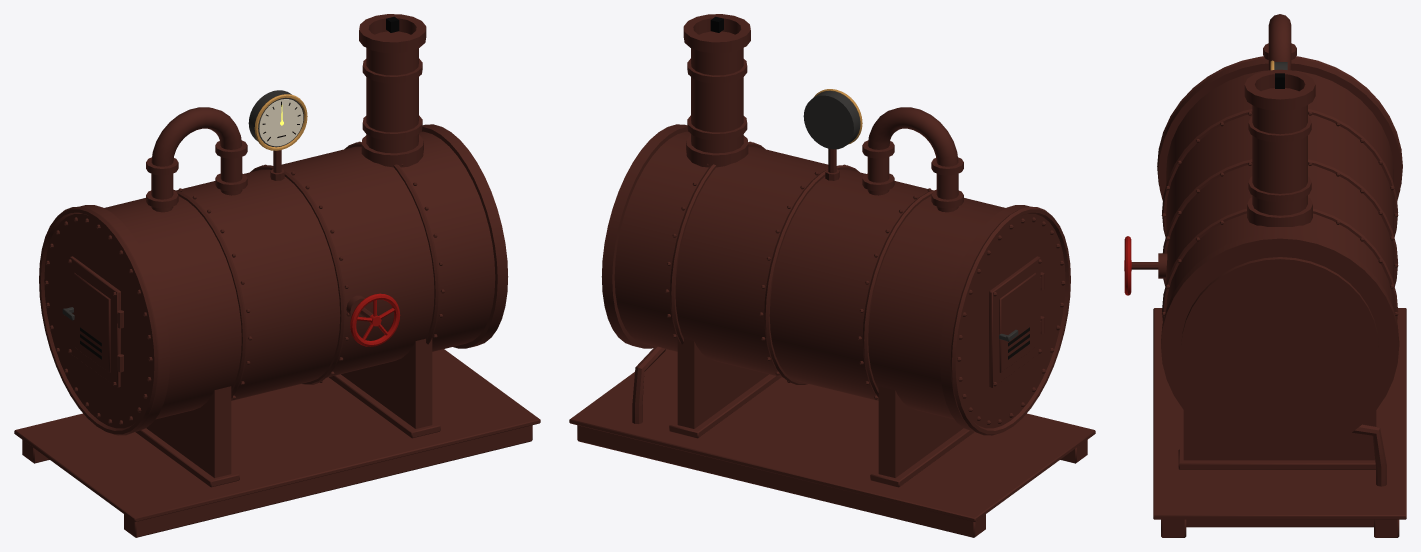
File: Boiler.fbx
The picture shows the model from 3 angles, left to right: view 1: azimuth 30°, elevation 25°; view 2: azimuth 150°, elevation 25°; view 3: azimuth 270°, elevation 25°; orthographic projection. The views are drawn at different scales.
Visible parts, largest first — view 1: Boiler_Body, Boiler_Pipes, Boiler_Door, Boiler_GaugeFace, Boiler_Valve, Boiler_Rivets, Boiler_Gauge, Boiler_GaugeRim; view 2: Boiler_Body, Boiler_Pipes, Boiler_Door, Boiler_Gauge, Boiler_Rivets; view 3: Boiler_Body, Boiler_Pipes, Boiler_Rivets, Boiler_Valve.
Boxes of the visible parts, bbox=[...] form: Boiler_Body: bbox=[14, 124, 540, 537]; Boiler_Pipes: bbox=[146, 14, 426, 320]; Boiler_Door: bbox=[68, 256, 123, 387]; Boiler_GaugeFace: bbox=[259, 99, 303, 146]; Boiler_Valve: bbox=[350, 293, 400, 346]; Boiler_Rivets: bbox=[44, 141, 444, 424]; Boiler_Gauge: bbox=[248, 90, 303, 147]; Boiler_GaugeRim: bbox=[254, 94, 307, 150]; Boiler_Body: bbox=[569, 124, 1095, 537]; Boiler_Pipes: bbox=[632, 14, 963, 423]; Boiler_Door: bbox=[989, 256, 1044, 387]; Boiler_Gauge: bbox=[803, 91, 860, 149]; Boiler_Rivets: bbox=[665, 141, 1065, 424]; Boiler_Body: bbox=[1153, 56, 1406, 537]; Boiler_Pipes: bbox=[1131, 14, 1386, 486]; Boiler_Rivets: bbox=[1161, 111, 1398, 315]; Boiler_Valve: bbox=[1124, 236, 1131, 295].
Size of the model in its own units: 1.94 by 1.83 by 1.11.
